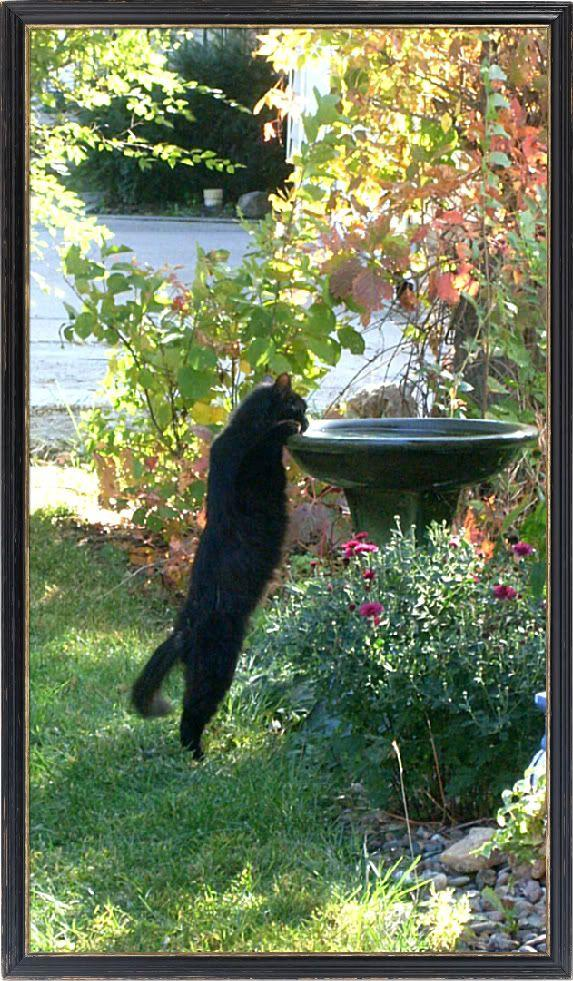kedo: (137, 370, 306, 760)
